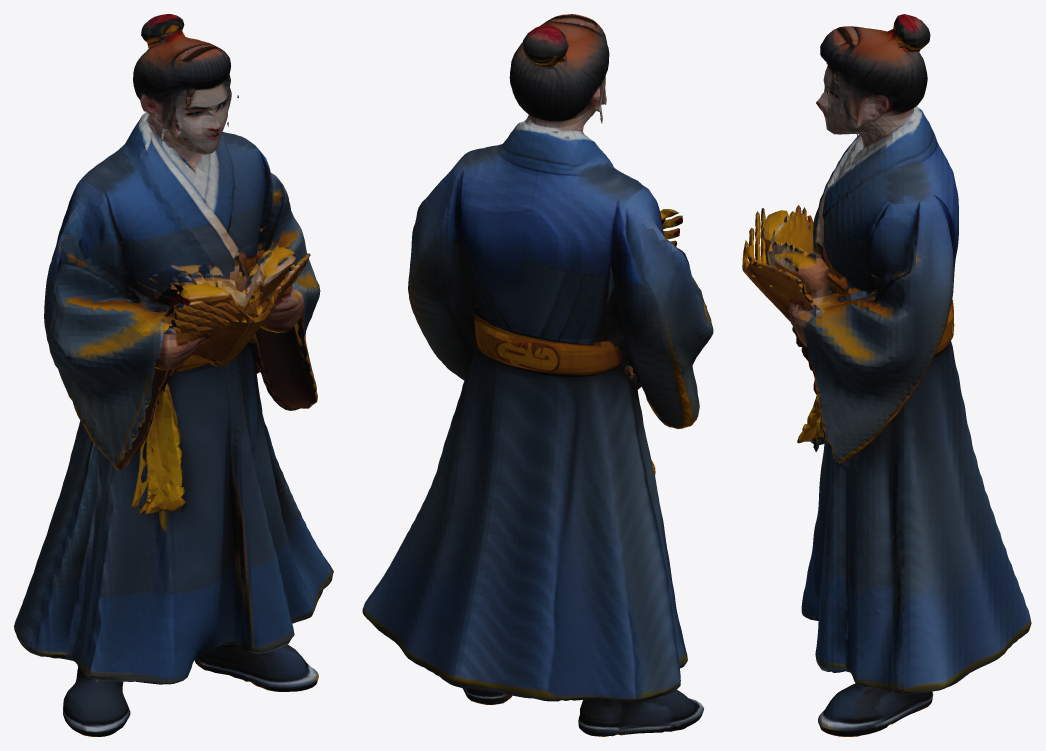
File: body.glb
3 renders of one model, left to right at view 1: azimuth 30°, elevation 25°; view 2: azimuth 150°, elevation 25°; view 3: azimuth 270°, elevation 25°, orthographic. The views are drawn at different scales.
Visible parts, largest first — view 1: geometry_0; view 2: geometry_0; view 3: geometry_0.
Part boxes in pixels (<box>): geometry_0: <box>14,14,333,736</box>; geometry_0: <box>362,14,713,736</box>; geometry_0: <box>742,14,1031,736</box>.
Bounding box in the file's own units: 0.9246 × 1.96 × 0.7712.
1 material, 1 textured.
